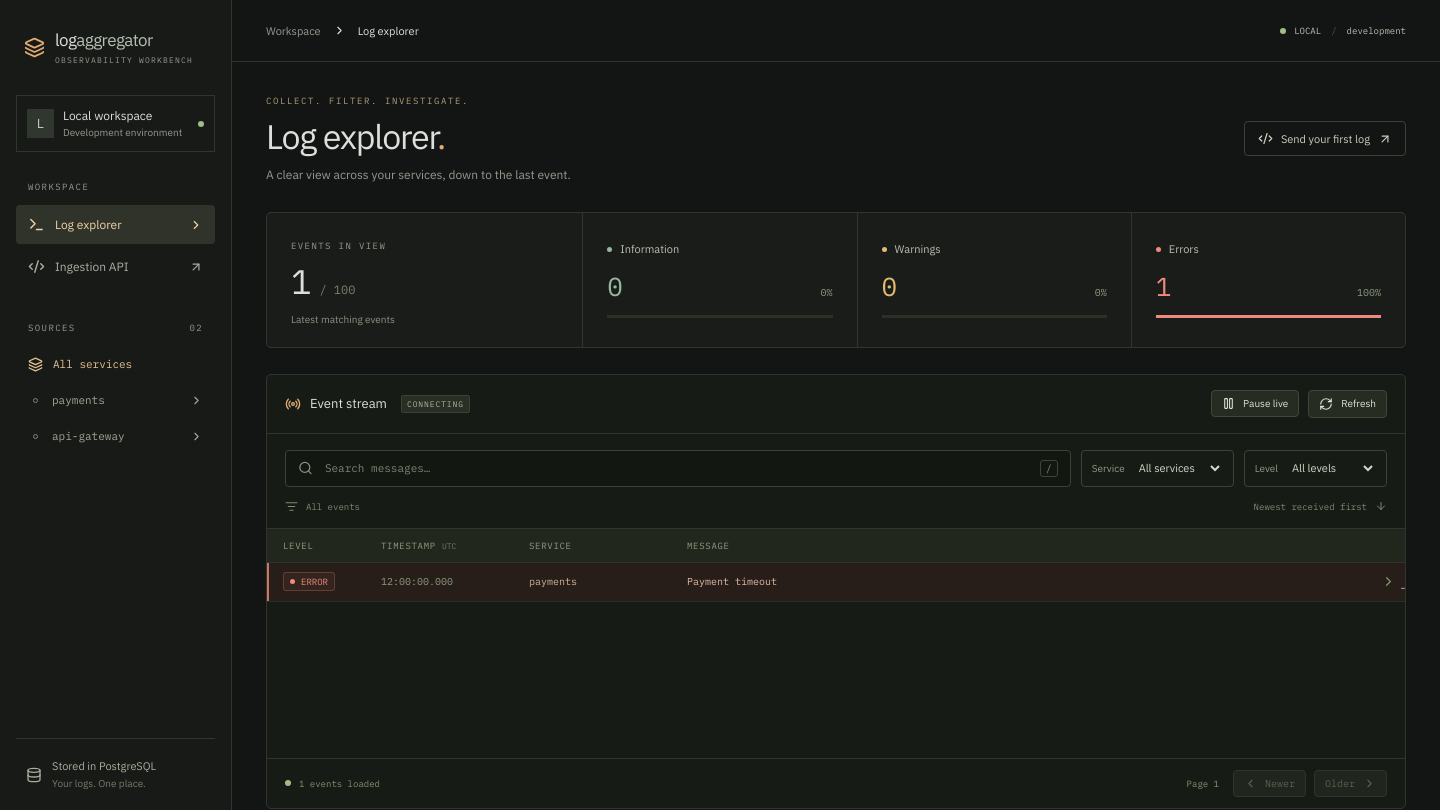
Test case: shows an empty state and lets the user reset filters
This screenshot has width=1440, height=810.
expect the button "Payment timeout" is shown: met, box x1=687 y1=566 x2=1369 y2=598
Type "missing" into the field named "Search log messages".
click(676, 468); type("missing")  # box x1=323 y1=460 x2=1030 y2=476
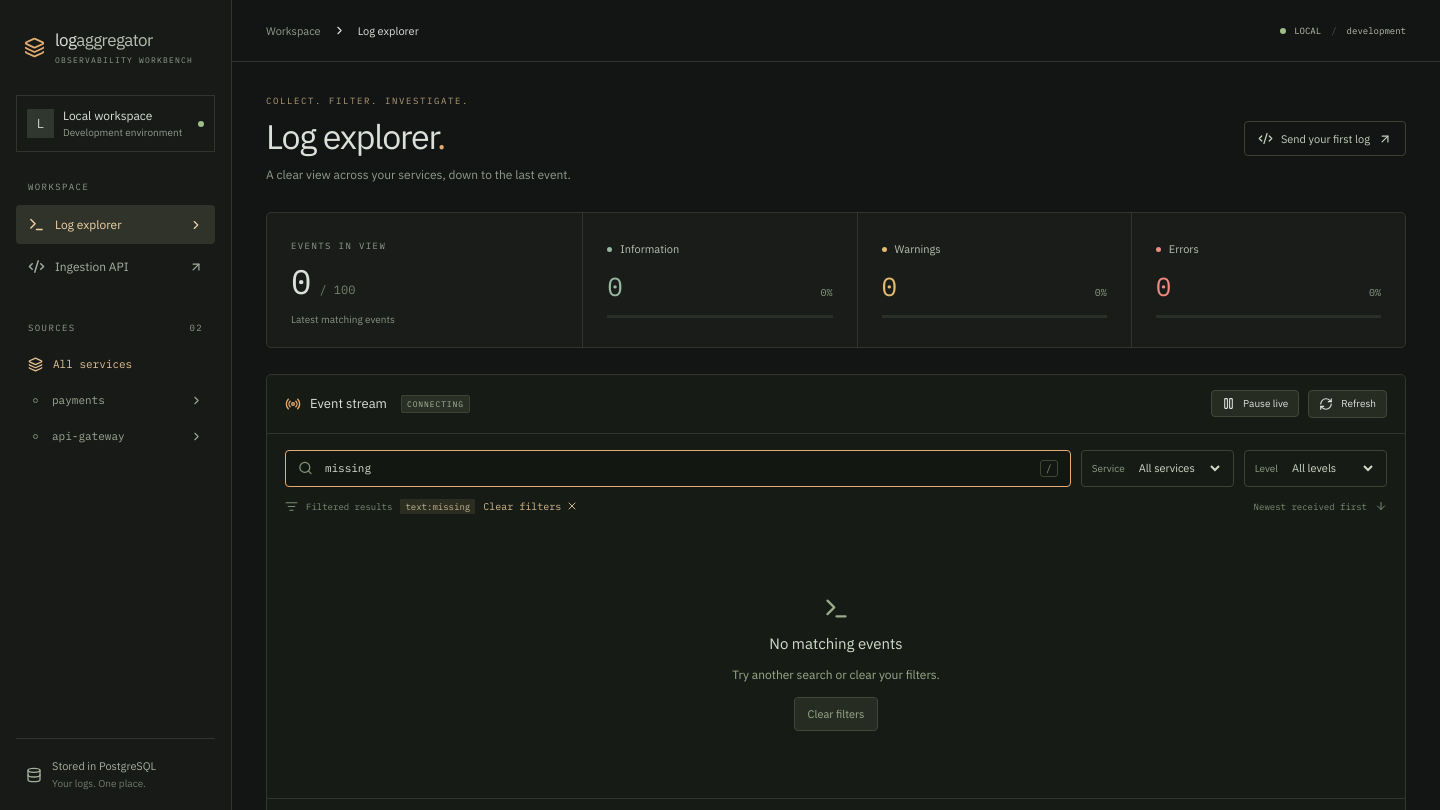
expect the text "No matching events" is shown: met, box x1=769 y1=634 x2=903 y2=653
Click the button "Clear filters" next to "missing".
click(531, 506)  # box x1=483 y1=500 x2=578 y2=513
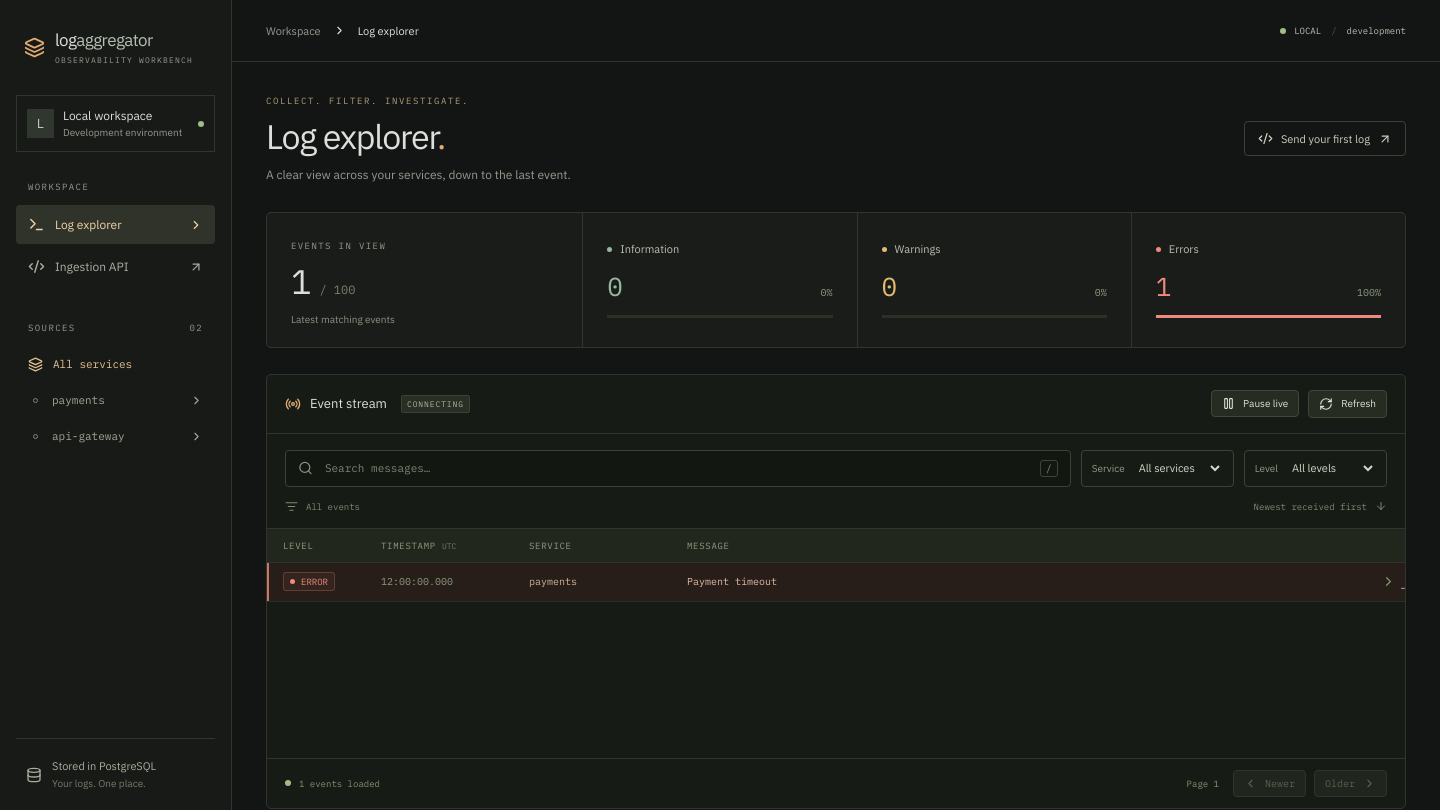
expect the button "Payment timeout" is shown: met, box x1=687 y1=566 x2=1369 y2=598
expect the field named "Search log messages" is empty: met, box x1=323 y1=460 x2=1030 y2=476
